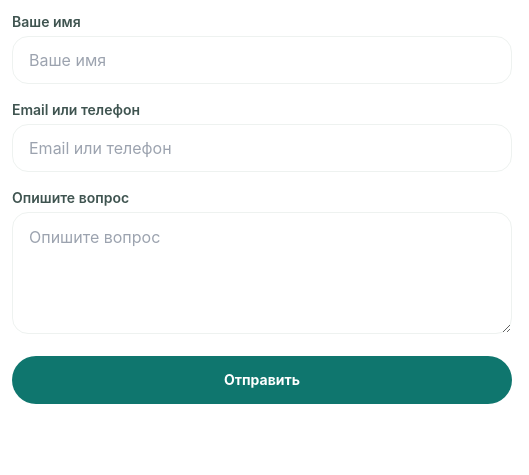
Test: SupportForm › при неизвестном исходе сохраняет черновик и блокирует слепой повтор
Type "Иван" into the field labelled "Ваше имя".
click(262, 60); type("Иван")  # box [12,36,512,84]
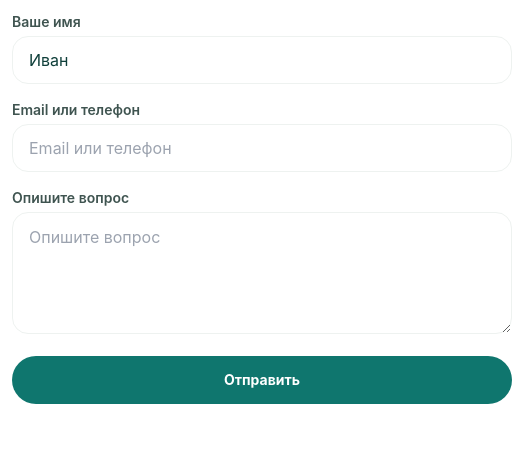
Type "ivan@example.com" into the field labelled "Email или телефон".
click(262, 148); type("ivan@example.com")  # box [12,124,512,172]
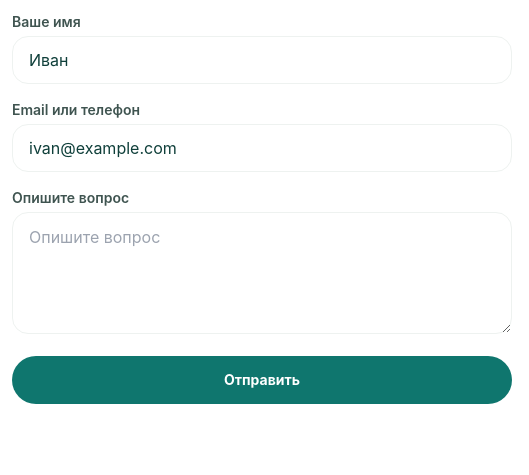
Type "Вопрос" into the text box labelled "Опишите вопрос".
click(262, 273); type("Вопрос")  # box [12,212,512,334]
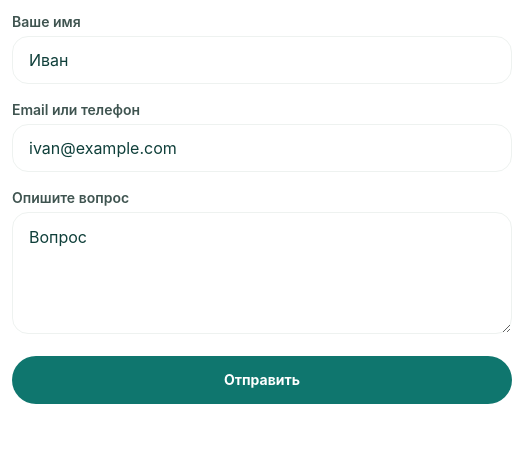
Click the button "Отправить".
click(262, 380)  # box [12,356,512,404]
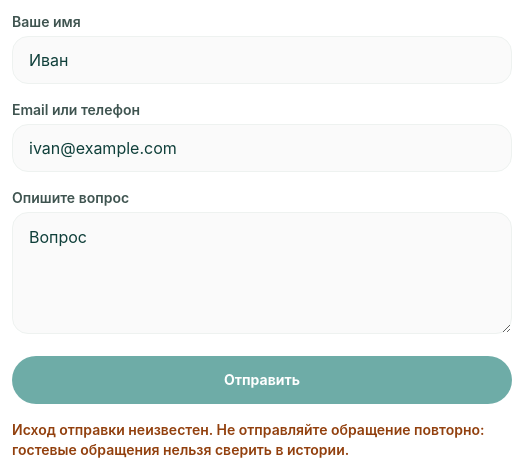
Expected: the text "Исход отправки неизвестен. Не отправляйте обращение повторно: гостевые обращения нельзя сверить в истории." is shown, [12,421,484,458]
Expected: the button "Отправить" is disabled, [12,356,512,404]
